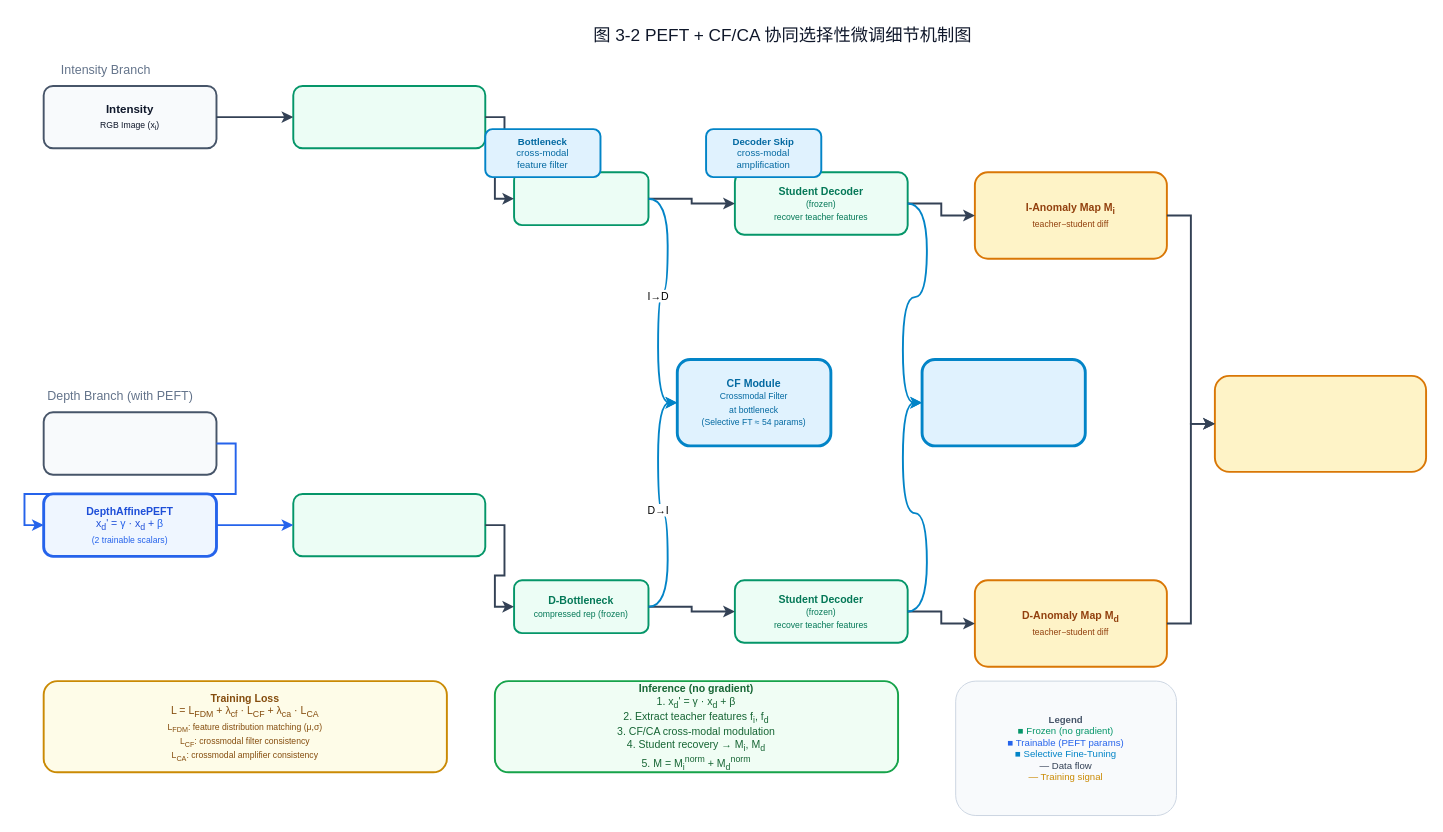
The diagram is 1443 pixels wide and 832 high, and some of its shapes have lost their labels. Here are the shapes that lost their labels. From the top down, the centre of each, then its label:
At pixel 389 116: "Teacher Encoder WRN50_2 (frozen) multi-scale features f i l".
At pixel 581 198: "I-Bottleneck compressed rep (frozen)".
At pixel 1003 402: "CA Module Crossmodal Amplifier at decoder skip fusion (Selective FT ≈ 54 params)".
At pixel 129 443: "Depth 16-bit TIFF (x d )".
At pixel 1320 423: "Fusion Anomaly Map M = M i norm + M d norm normalized sum fusion".
At pixel 389 524: "Teacher Encoder WRN50_2 (frozen) multi-scale features f d l".
